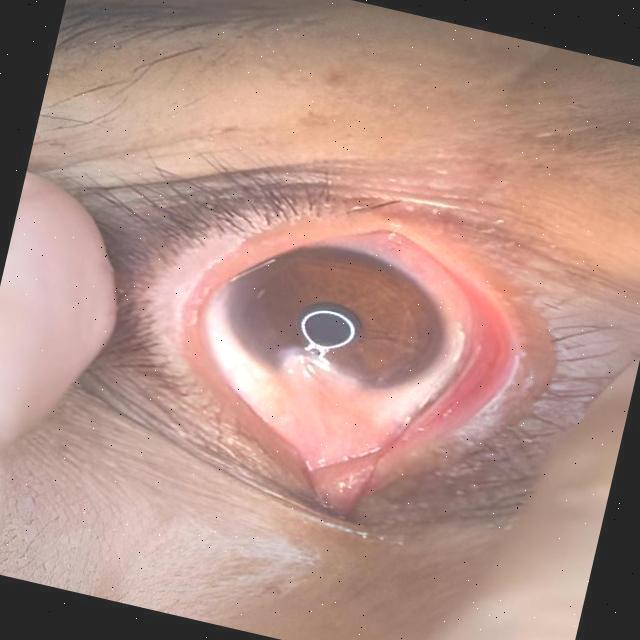Pterygium: (242, 319, 416, 485)
